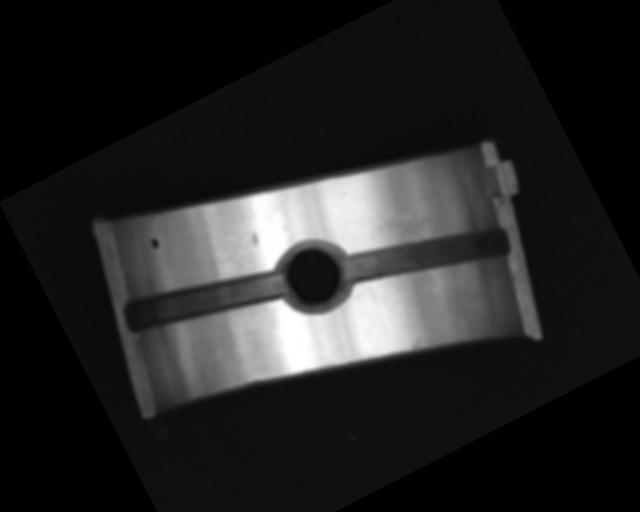blot: (147, 235, 162, 252)
bruise: (247, 231, 260, 248)
gap: (336, 186, 514, 322), (119, 234, 289, 364)
hole: (265, 226, 362, 323)
scratch: (363, 186, 447, 252)
